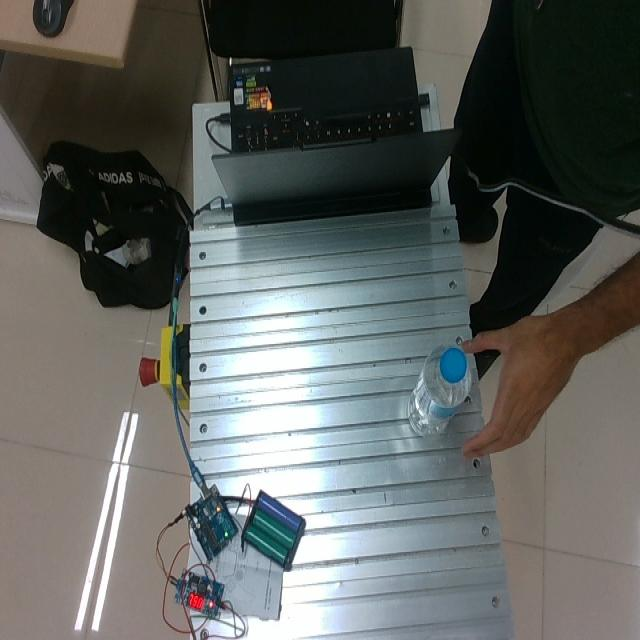lavie: (405, 340, 472, 436)
